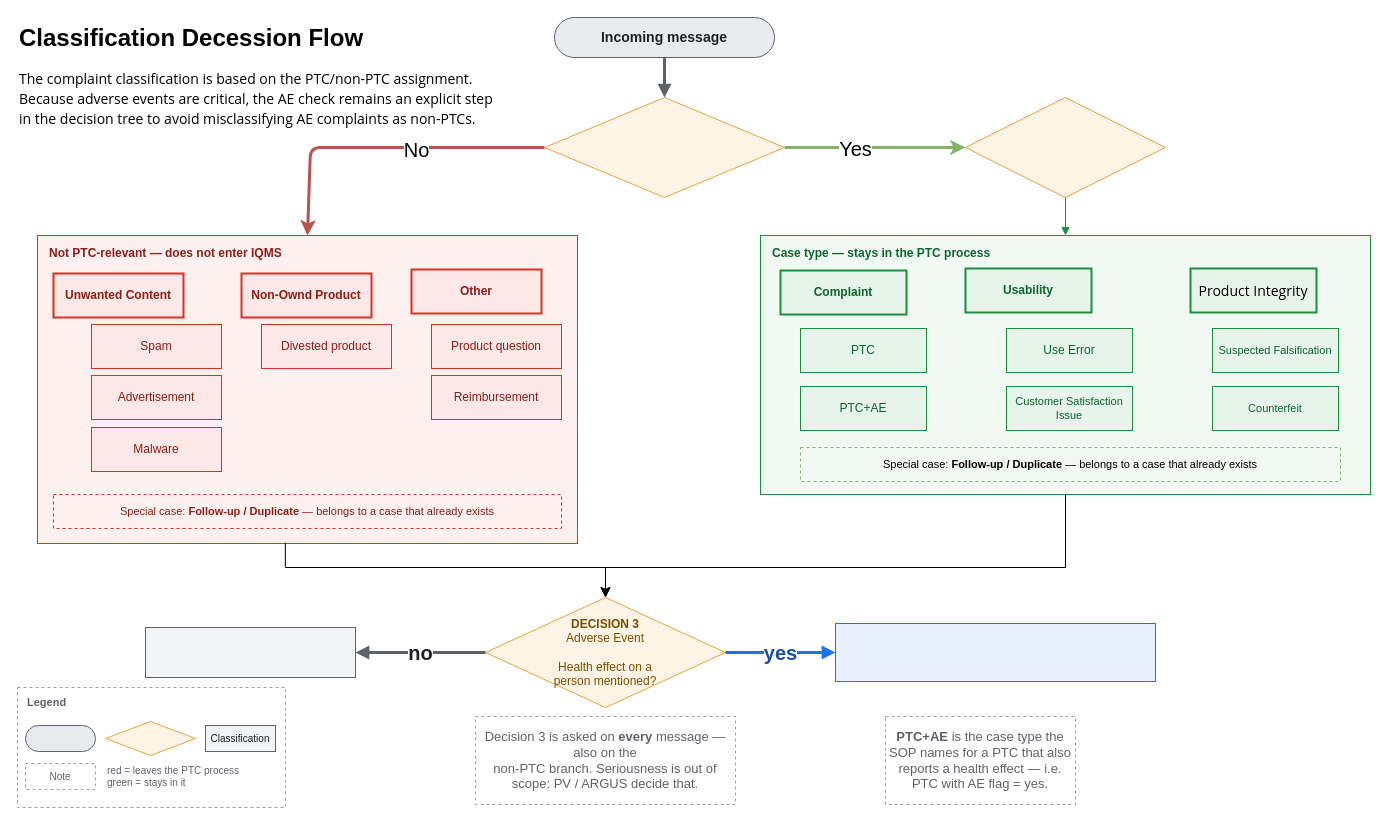
The diagram is 1388 pixels wide and 825 high, and some of its shapes have lost their labels. The shapes that lost their labels are listed below. From the top down, each one's centre as x and y in pixels, then its label:
(x=664, y=147): DECISION 1 Intake gate Is this PTC-relevant?
(x=1065, y=147): DECISION 2 Case type Which kind of case?
(x=250, y=652): AE flag = no
(x=995, y=652): AE flag = yes must also reach Pharmacovigilance (ARGUS)
(x=60, y=738): Start
(x=150, y=738): Decision
